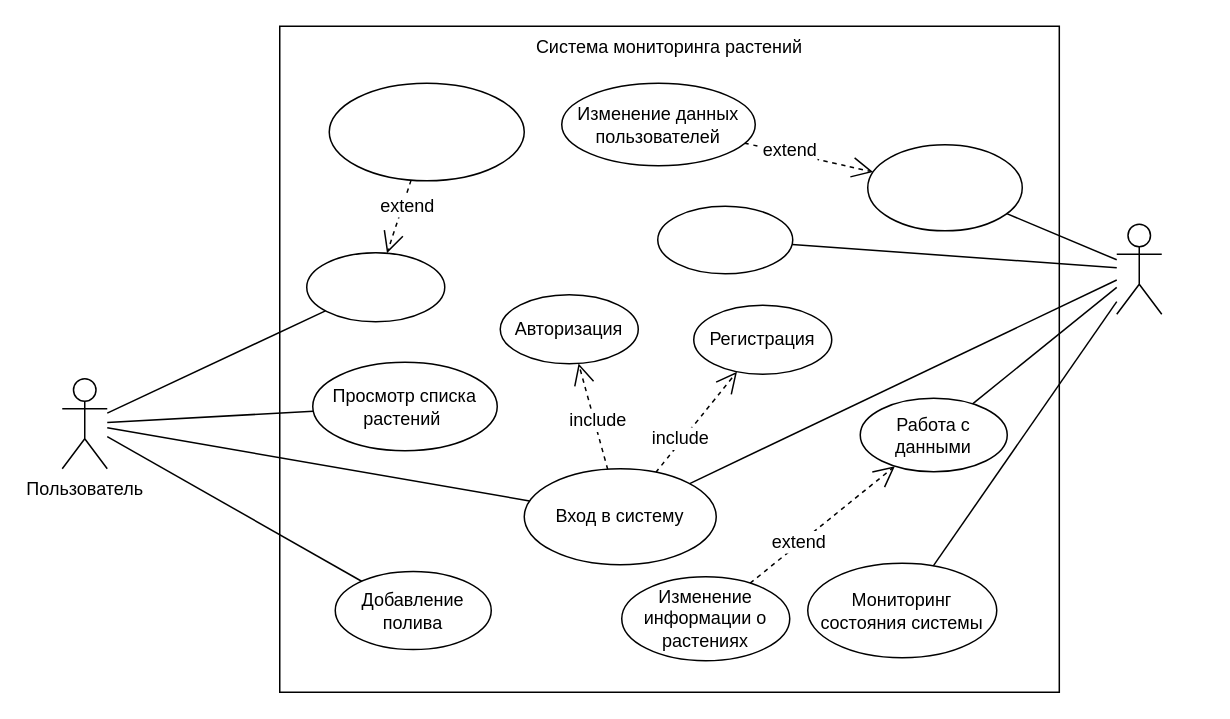
Image size: 1230x719. Some labels were removed from this diagram. The shapes that lost their labels are listed below. From the top down, each one's box as (x1, y1, x2, y2) in pixels, then its label:
(328, 82, 524, 181): Добавление и удаление отмеки
(866, 143, 1022, 231): Управление пользователями
(656, 205, 793, 274): Настройка системы
(305, 251, 445, 322): Пометка растений
(1115, 223, 1162, 314): Администратор
